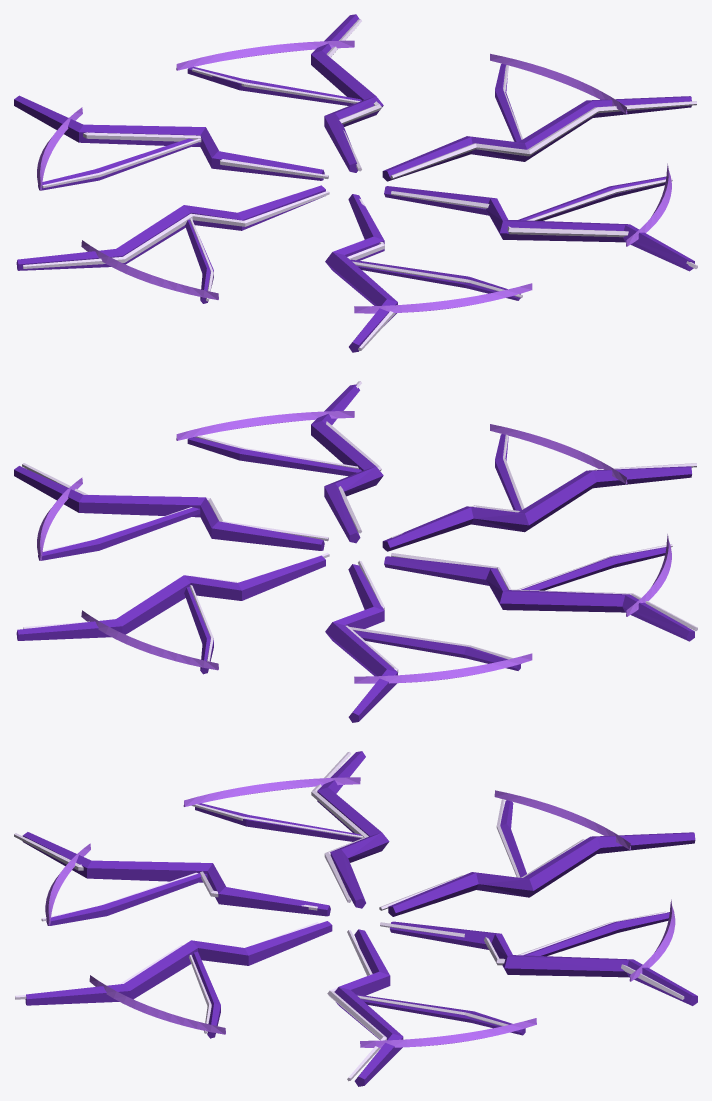
The model's file is VFX_60_FulmineReteParalizzante.fbx.
3 views of the same model, one above another, from view 1: azimuth 30°, elevation 25°; view 2: azimuth 150°, elevation 25°; view 3: azimuth 270°, elevation 25° (orthographic).
Parts seen in each view (by area): view 1: VFX_60_FulmineReteParalizzante; view 2: VFX_60_FulmineReteParalizzante; view 3: VFX_60_FulmineReteParalizzante.
Boxes of the visible parts, x1,y1,x2,y2 form: VFX_60_FulmineReteParalizzante: [14, 14, 697, 352]; VFX_60_FulmineReteParalizzante: [14, 381, 697, 722]; VFX_60_FulmineReteParalizzante: [14, 751, 697, 1086].
Size of the model in its own units: 422 by 11.57 by 373.
1 material, 1 textured.
